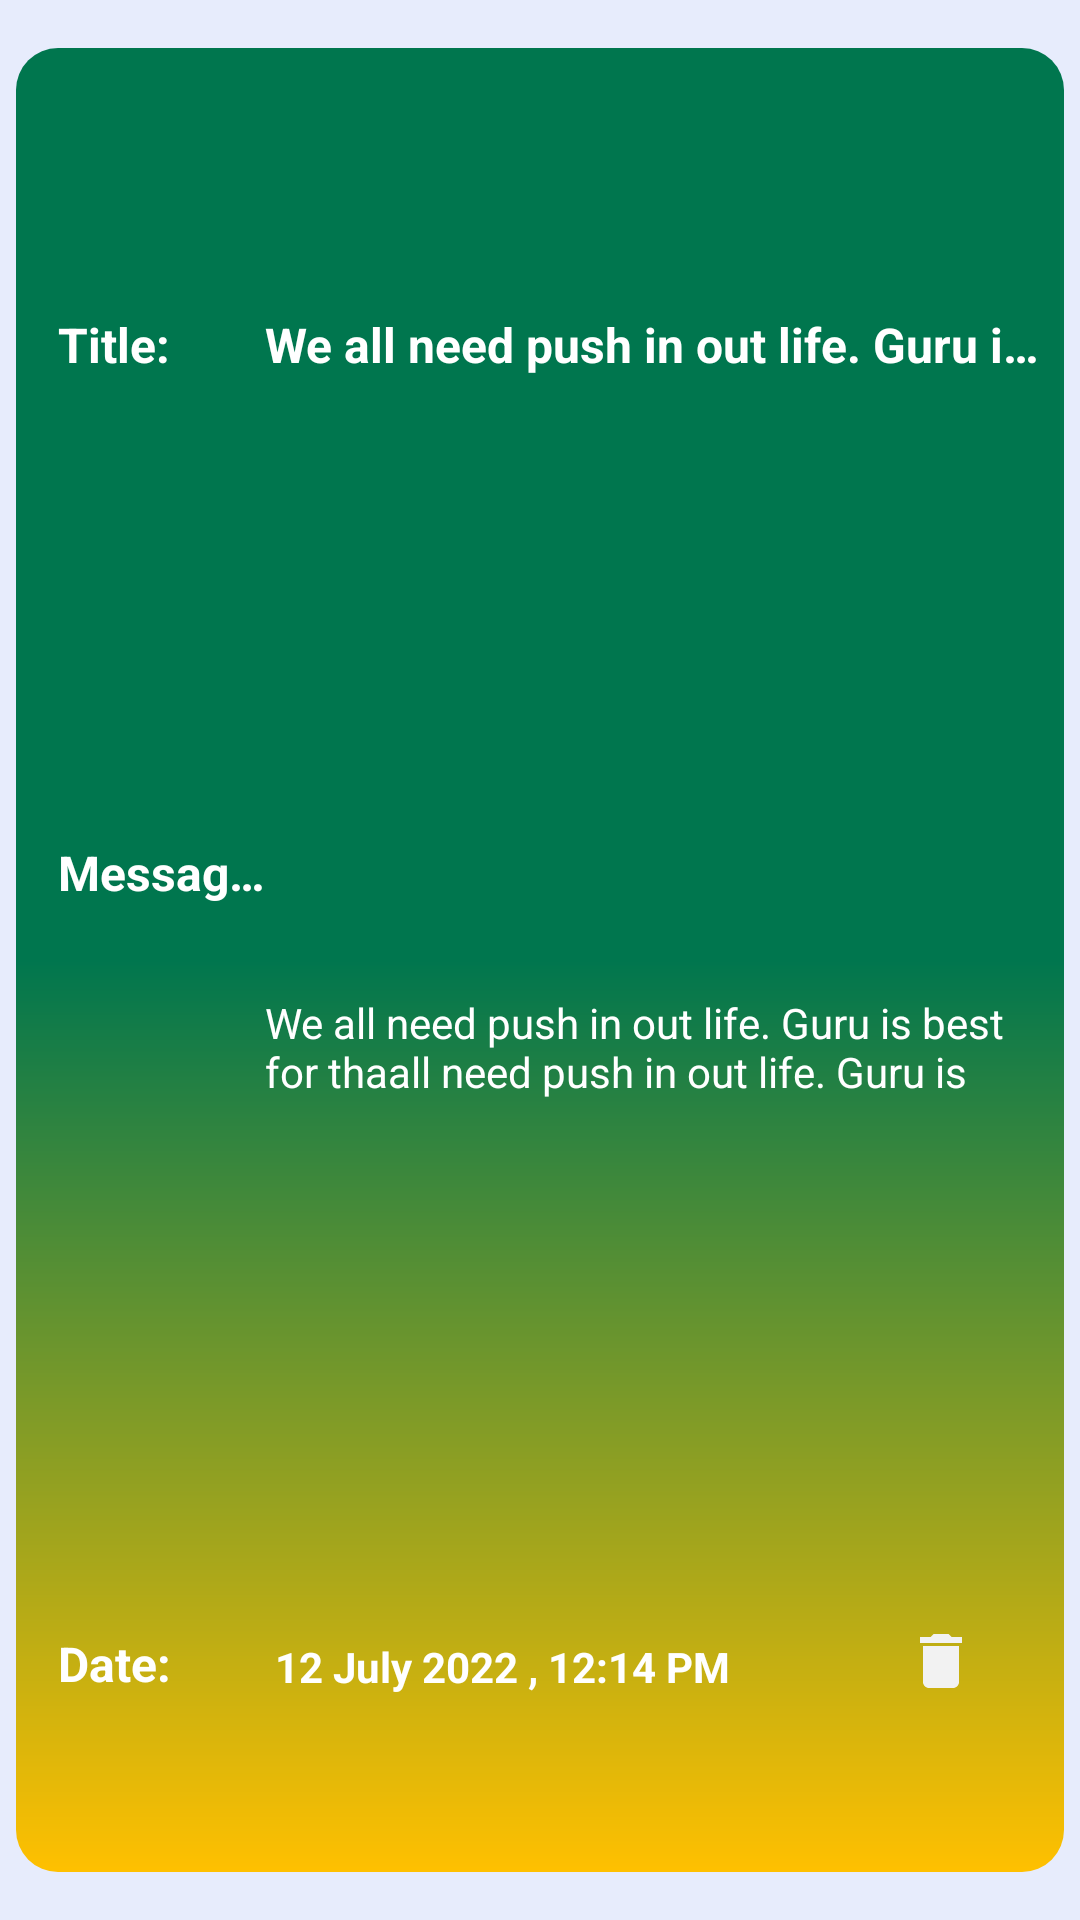

Icon bounding boxes for this 1080 x 1920 phone screenshot, format [x1=x1, y1=y1, x2=x2, y2=y2]:
delete: [x1=920, y1=1634, x2=962, y2=1688]
